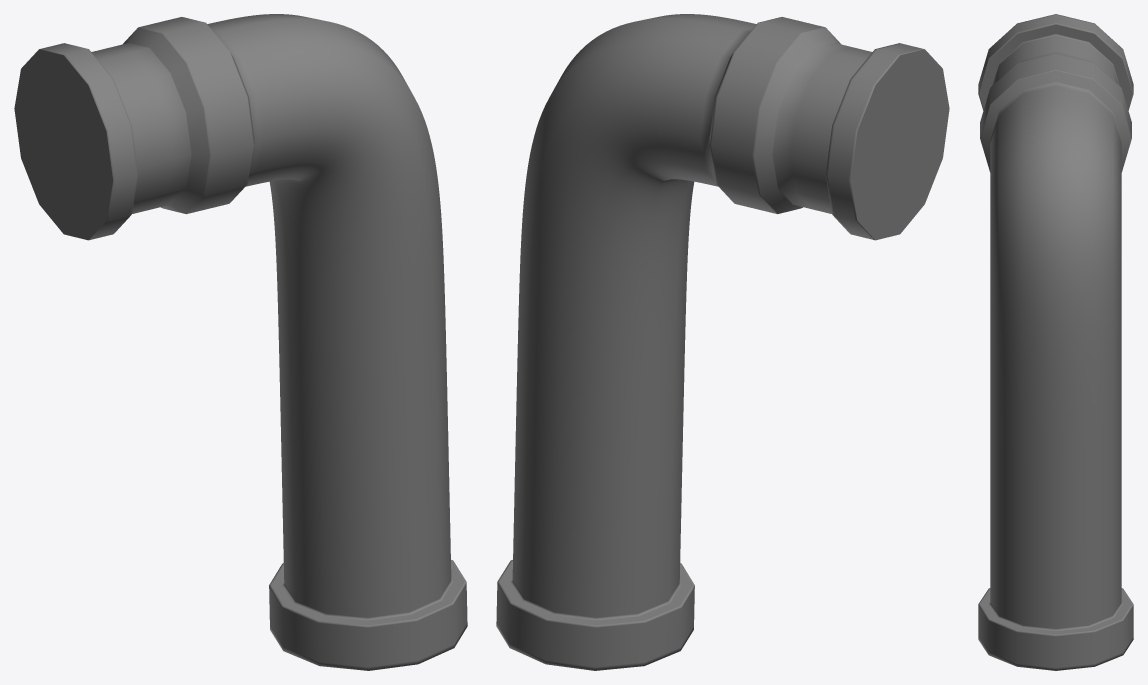
The model's file is Pipe_05.fbx.
3 views of the same model, side by side, from view 1: azimuth 30°, elevation 25°; view 2: azimuth 150°, elevation 25°; view 3: azimuth 270°, elevation 25° (orthographic). The views are drawn at different scales.
Visible parts, largest first — view 1: Pipe_05; view 2: Pipe_05; view 3: Pipe_05.
Part boxes in pixels (x1,y1,x2,y2): Pipe_05: (14, 14, 467, 670); Pipe_05: (496, 14, 949, 670); Pipe_05: (978, 14, 1133, 670).
Size of the model in its own units: 53.95 by 85.71 by 23.64.
